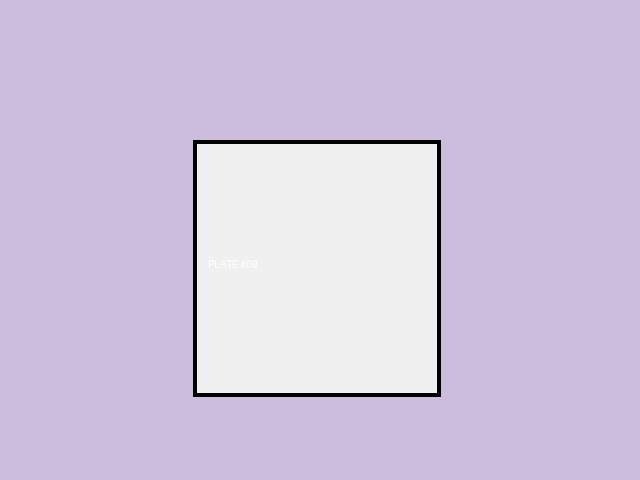plate: (193, 140, 440, 396)
